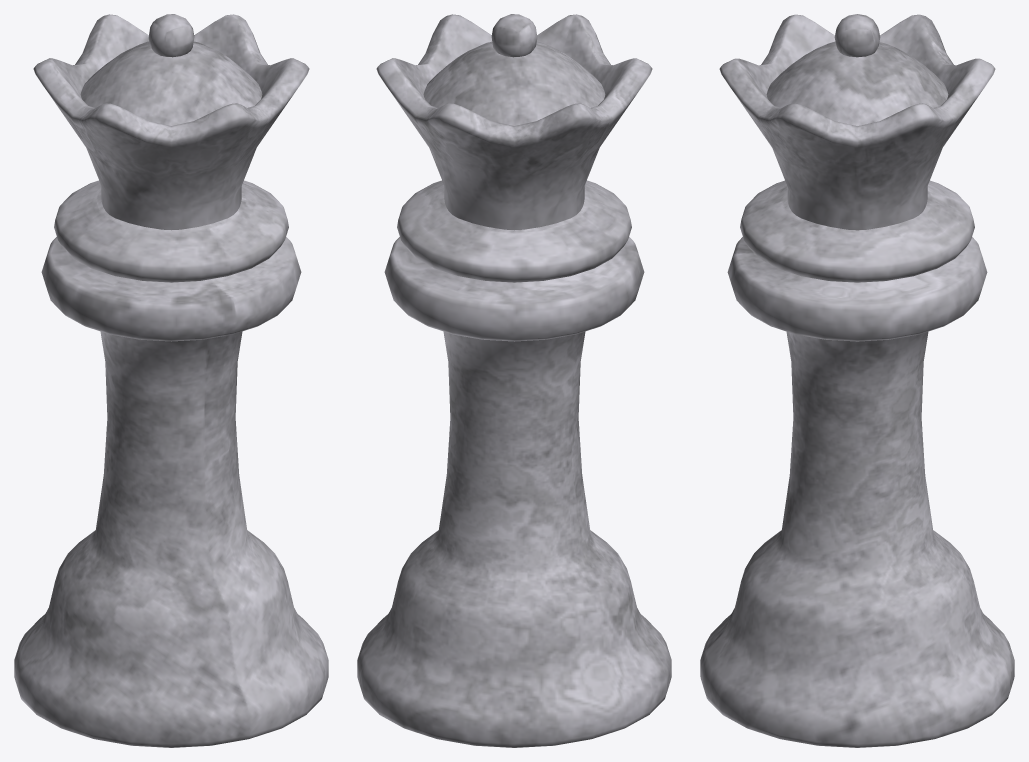
File: GEO_WhiteQueen.obj
The picture shows the model from 3 angles, left to right: view 1: azimuth 30°, elevation 25°; view 2: azimuth 150°, elevation 25°; view 3: azimuth 270°, elevation 25°; orthographic projection.
Visible parts, largest first — view 1: GEO_WhiteQueen; view 2: GEO_WhiteQueen; view 3: GEO_WhiteQueen.
Boxes of the visible parts, left/top/right/bottom form: GEO_WhiteQueen: left=14, top=14, right=328, bottom=747; GEO_WhiteQueen: left=357, top=14, right=671, bottom=747; GEO_WhiteQueen: left=700, top=14, right=1014, bottom=747.
Size of the model in its own units: 0.0374 by 0.0876 by 0.0374.
